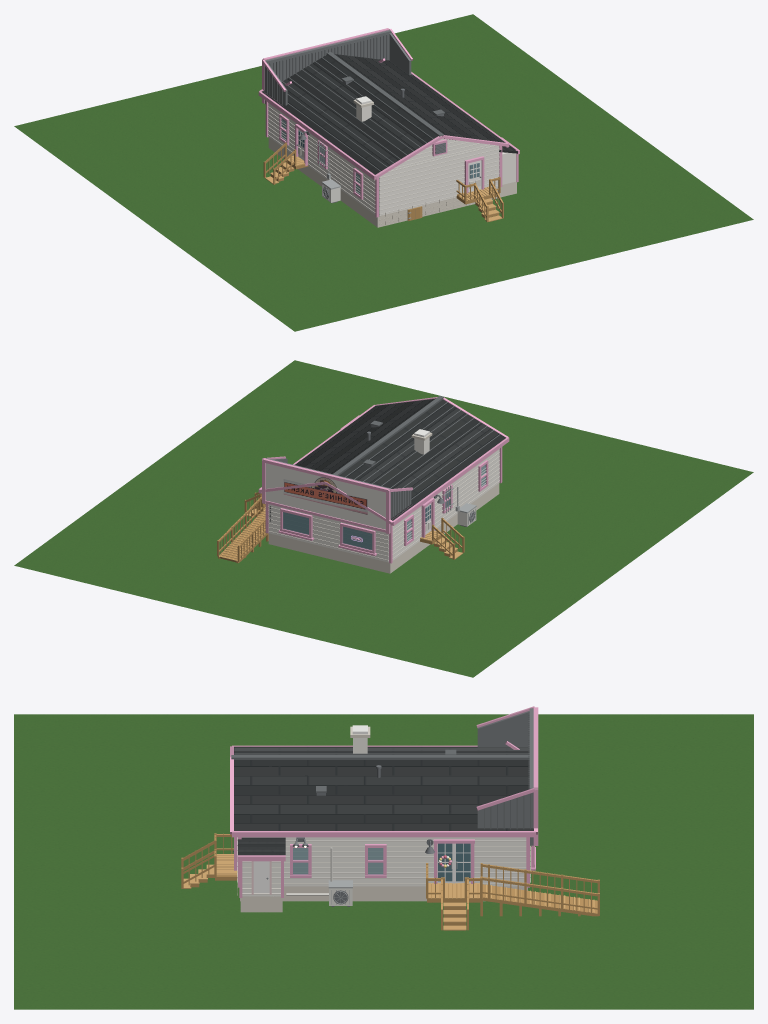
The model's file is sunshine_bakery_shop.glb.
The picture shows the model from 3 angles, top to bottom: view 1: azimuth 30°, elevation 25°; view 2: azimuth 150°, elevation 25°; view 3: azimuth 270°, elevation 25°; orthographic projection. The views are drawn at different scales.
Parts seen in each view (by area): view 1: Grass_Field_Surface, Dark_Gray_Shingle_Roof, Cream_Wall_Rear, Cream_Wall_Left_Service_Side, False_Front_Dark_Core, Horizontal_Lap_Siding_Rear, Concrete_Block_Foundation, Roof_Shingle_Course_Ridges, Horizontal_Lap_Siding_Left, False_Front_Dark_Corrugated_Returns, False_Front_Rear_Corrugation_Ribs, Rear_Gable_Wall (+3 smaller); view 2: Grass_Field_Surface, Dark_Gray_Shingle_Roof, False_Front_Cream_Face, Concrete_Block_Foundation, Cream_Wall_Left_Service_Side, Cream_Wall_Front, Roof_Shingle_Course_Ridges, Orange_SUNSHINES_BAKERY_Sign, Horizontal_Lap_Siding_Left, Storefront_Window_Left, Storefront_Window_Right, Pink_Gable_Fascia (+5 smaller); view 3: Grass_Field_Surface, Dark_Gray_Shingle_Roof, Cream_Wall_Right_Entrance_Side, False_Front_Dark_Corrugated_Returns, Horizontal_Lap_Siding_Right, Roof_Shingle_Course_Ridges, Pink_Fascia_Right_Eave, Concrete_Block_Foundation, ADA_Ramp_Deck, Roof_Ridge_Cap, ADA_Ramp_Railings, Main_Entrance_Door_Glass (+9 smaller).
Part boxes in pixels (<box>): Grass_Field_Surface: <box>14,14,753,331</box>; Dark_Gray_Shingle_Roof: <box>262,54,505,174</box>; Cream_Wall_Rear: <box>379,145,499,215</box>; Cream_Wall_Left_Service_Side: <box>268,103,375,214</box>; False_Front_Dark_Core: <box>264,30,391,103</box>; Horizontal_Lap_Siding_Rear: <box>379,145,499,214</box>; Concrete_Block_Foundation: <box>268,137,498,227</box>; Roof_Shingle_Course_Ridges: <box>282,57,433,171</box>; Horizontal_Lap_Siding_Left: <box>268,102,375,213</box>; False_Front_Dark_Corrugated_Returns: <box>265,33,411,105</box>; False_Front_Rear_Corrugation_Ribs: <box>269,35,387,81</box>; Rear_Gable_Wall: <box>390,138,494,170</box>; Grass_Field_Surface: <box>14,360,753,677</box>; Dark_Gray_Shingle_Roof: <box>295,398,505,520</box>; False_Front_Cream_Face: <box>265,463,385,529</box>; Concrete_Block_Foundation: <box>268,483,499,573</box>; Cream_Wall_Left_Service_Side: <box>392,449,499,560</box>; Cream_Wall_Front: <box>268,504,388,562</box>; Roof_Shingle_Course_Ridges: <box>345,402,500,499</box>; Orange_SUNSHINES_BAKERY_Sign: <box>283,479,367,514</box>; Horizontal_Lap_Siding_Left: <box>392,448,499,559</box>; Storefront_Window_Left: <box>338,522,376,556</box>; Storefront_Window_Right: <box>278,508,313,540</box>; Pink_Gable_Fascia: <box>259,397,508,524</box>; Grass_Field_Surface: <box>14,714,753,1009</box>; Dark_Gray_Shingle_Roof: <box>234,746,533,830</box>; Cream_Wall_Right_Entrance_Side: <box>242,837,526,886</box>; False_Front_Dark_Corrugated_Returns: <box>477,711,533,828</box>; Horizontal_Lap_Siding_Right: <box>284,840,526,884</box>; Roof_Shingle_Course_Ridges: <box>234,747,529,754</box>; Pink_Fascia_Right_Eave: <box>232,831,535,837</box>; Concrete_Block_Foundation: <box>240,886,527,901</box>; ADA_Ramp_Deck: <box>482,884,598,916</box>; Roof_Ridge_Cap: <box>231,755,529,759</box>; ADA_Ramp_Railings: <box>482,864,597,909</box>; Main_Entrance_Door_Glass: <box>438,843,470,881</box>.
Size of what is drawn, in the model's own units: 34 by 6.34 by 36.
29 materials, 6 textured.
